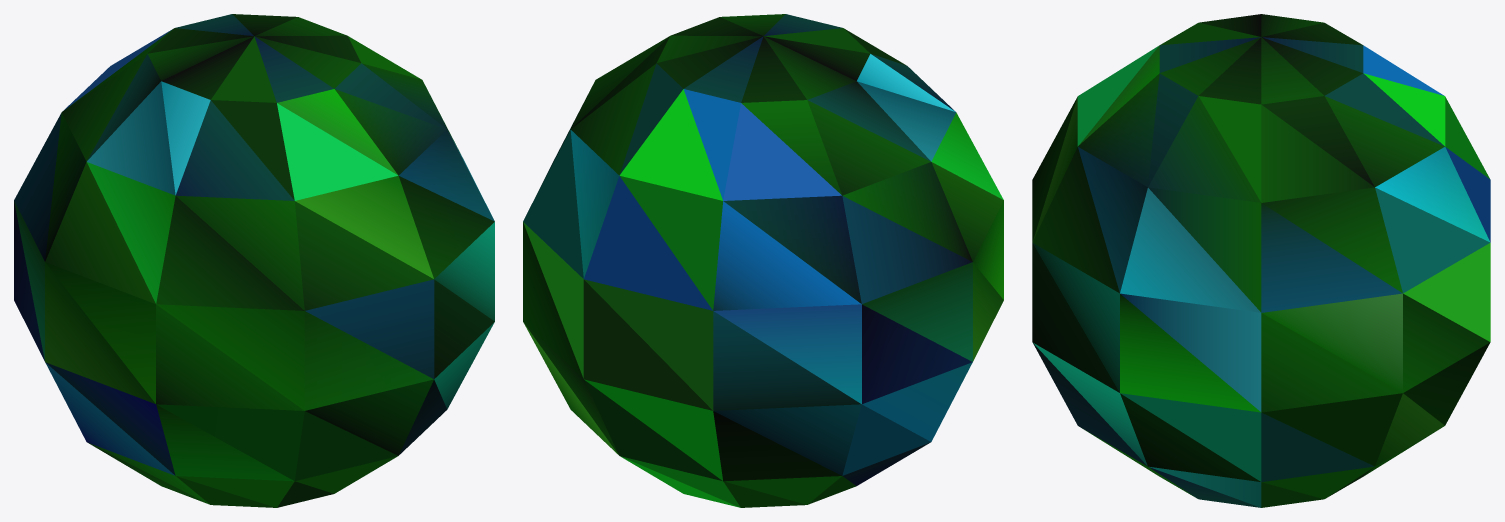
The model's file is LowPolyBall.fbx.
The picture shows the model from 3 angles, left to right: view 1: azimuth 30°, elevation 25°; view 2: azimuth 150°, elevation 25°; view 3: azimuth 270°, elevation 25°; orthographic projection.
Visible parts, largest first — view 1: LowPolyBall; view 2: LowPolyBall; view 3: LowPolyBall.
Boxes of the visible parts, x1,y1,x2,y2 form: LowPolyBall: (14,14,494,507); LowPolyBall: (523,14,1003,507); LowPolyBall: (1032,14,1490,507).
Size of the model in its own units: 0.013 by 0.0134 by 0.0124.
